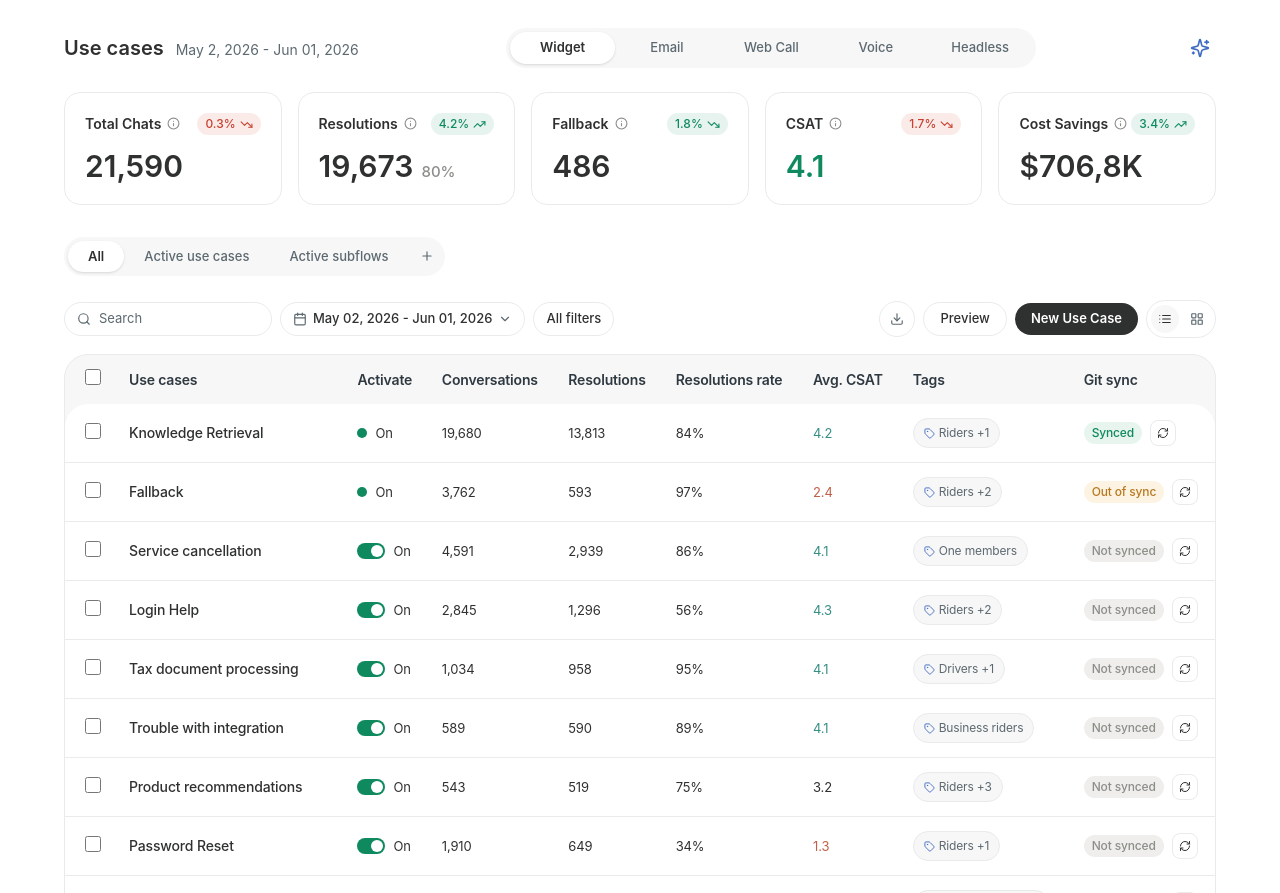
Test case: AgentBuilderScreen › selects a row and deletes it after confirming
The image size is (1280, 893).
Expected: the switch named "Activate Service cancellation" is shown, [358,543,386,559]
Click the checkbox named "Select Service cancellation". click: (93,548)
box: [85,540,101,556]
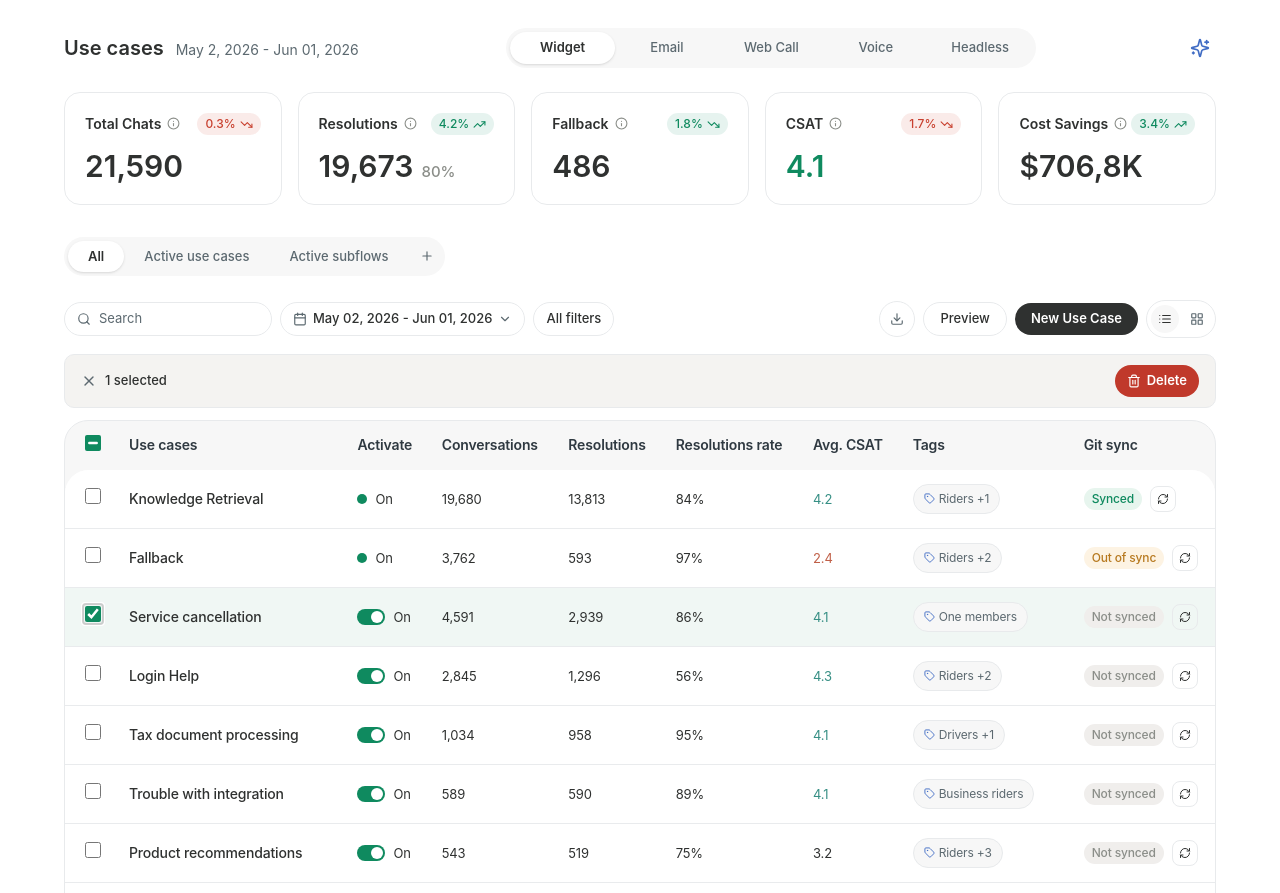
Result: the text "1 selected" is shown at [105,371,167,390]
Click the button "Delete". click: (1157,381)
box: [1115,365,1199,396]
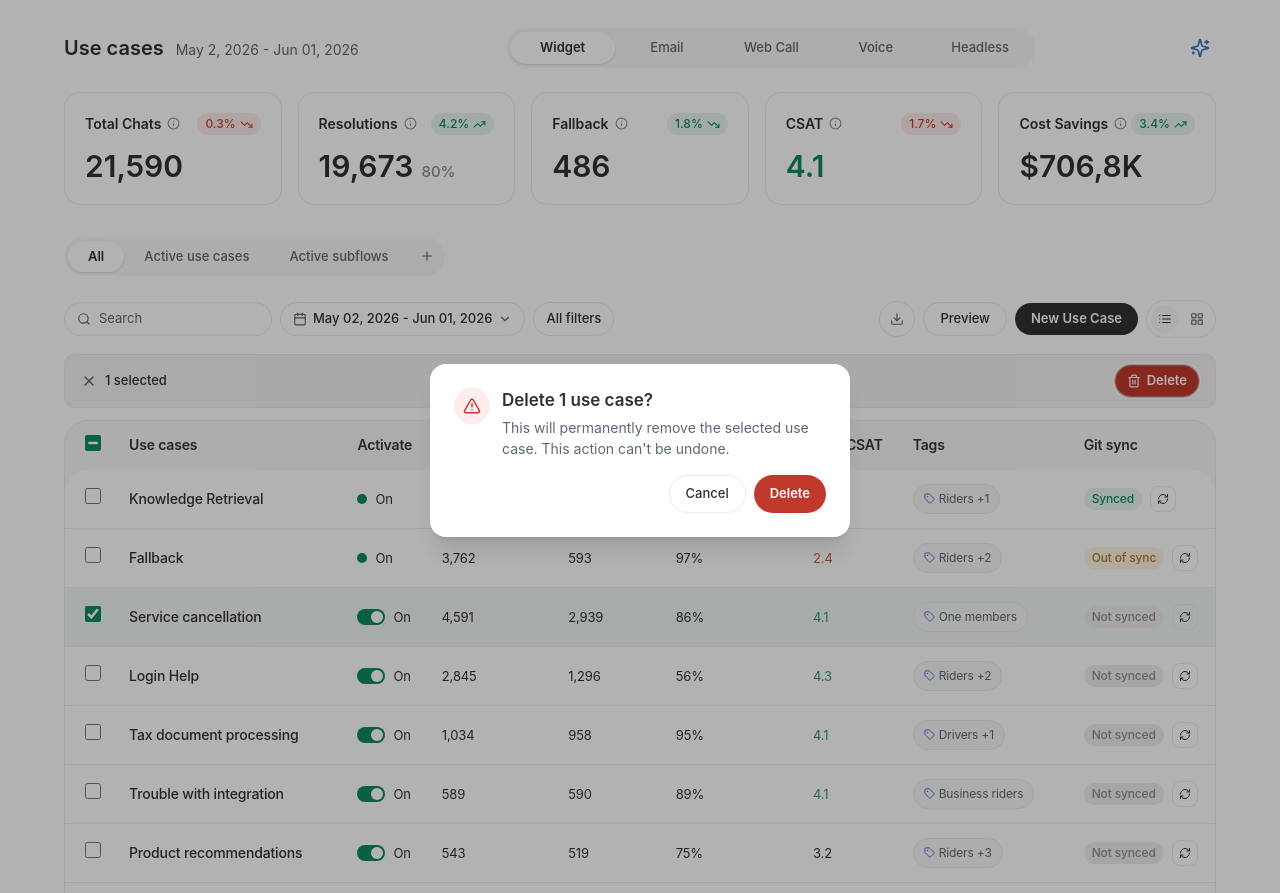
Expected: the switch named "Activate Service cancellation" is shown, [358,608,386,624]
Result: the heading "Delete 1 use case?" is shown at [502,390,653,410]
// Confirm removes the row and clears the bar.
Click the button "Delete". click: (790,494)
box: [754,475,826,512]
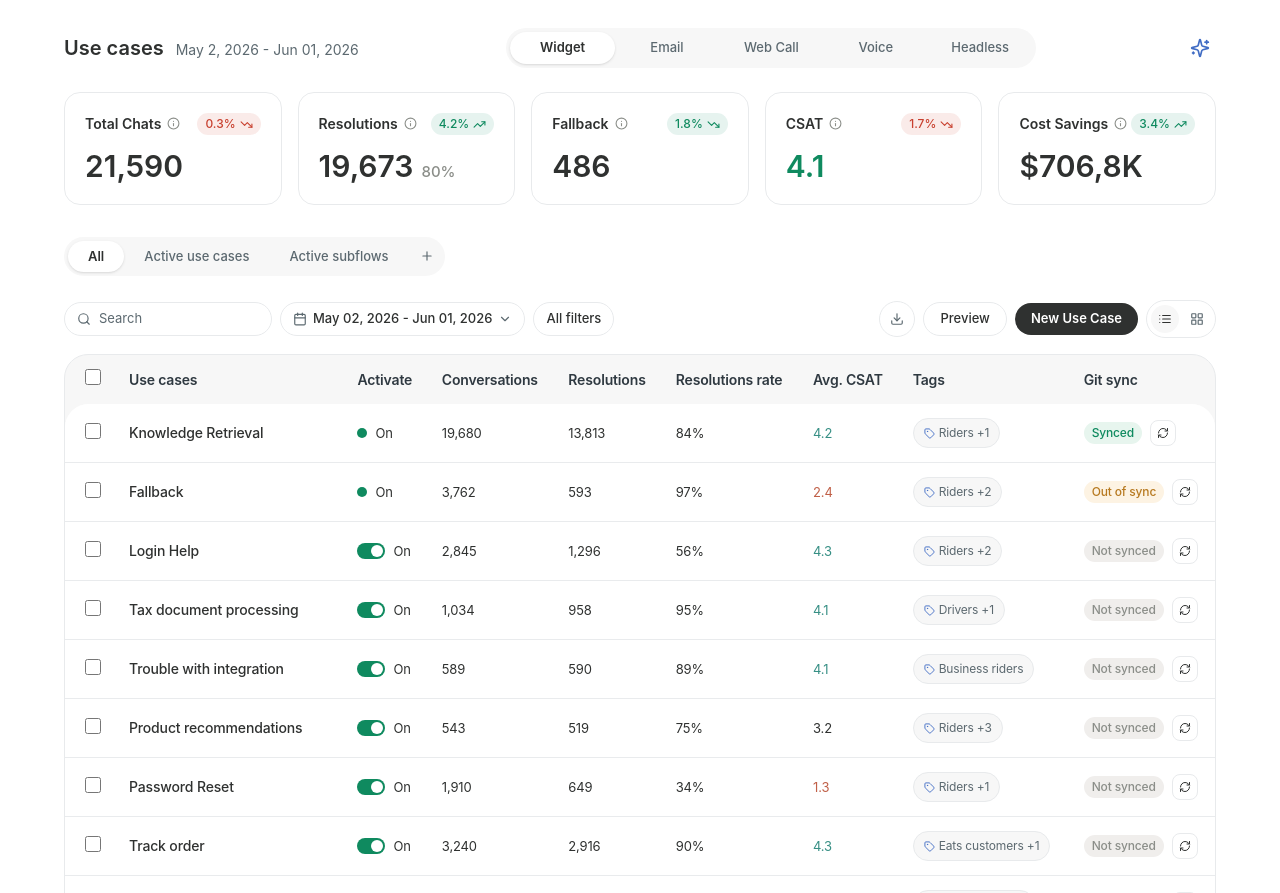
Result: the text "1 selected" is gone
